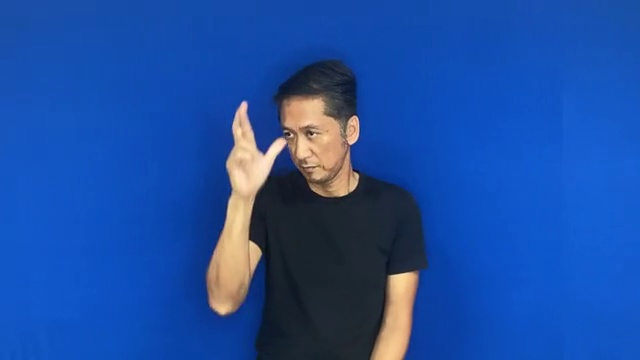chicken: (214, 93, 292, 197)
